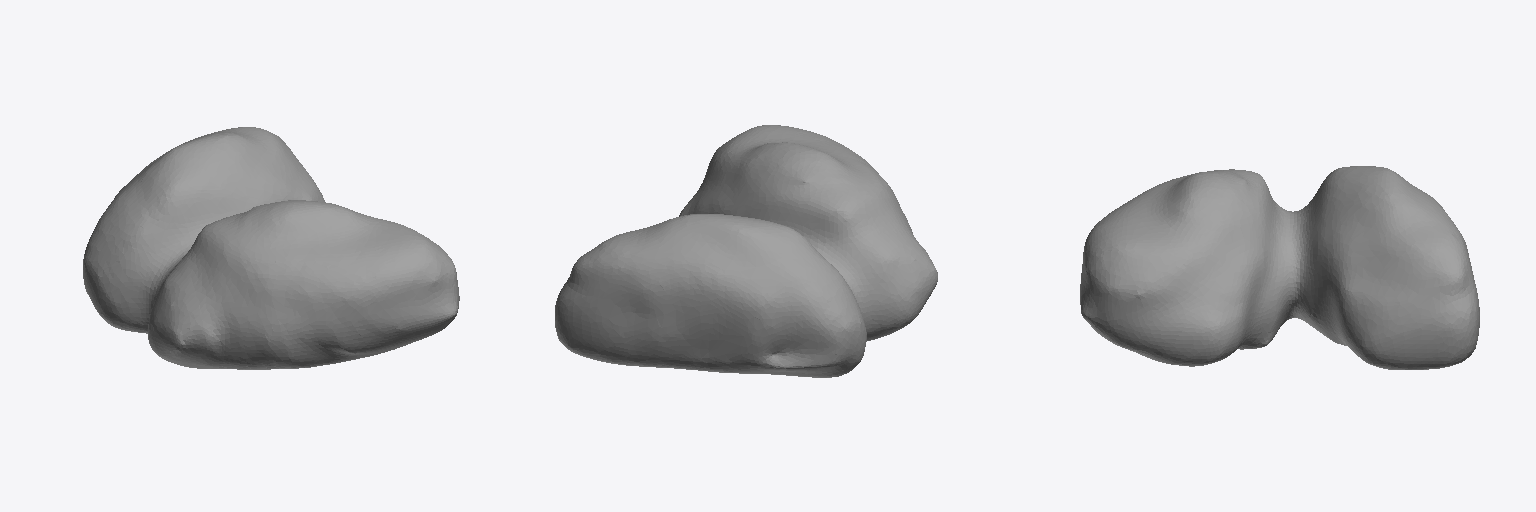
Rendered from Thalamus.obj.
3 renders of one model, left to right at view 1: azimuth 30°, elevation 25°; view 2: azimuth 150°, elevation 25°; view 3: azimuth 270°, elevation 25°, orthographic.
Visible parts, largest first — view 1: Thalamus.001; view 2: Thalamus.001; view 3: Thalamus.001.
Part boxes in pixels (x1,y1,x2,y2): Thalamus.001: (83,127,459,369); Thalamus.001: (555,125,937,377); Thalamus.001: (1080,166,1479,369).
Bounding box in the file's own units: 54.45 × 31.49 × 73.8.